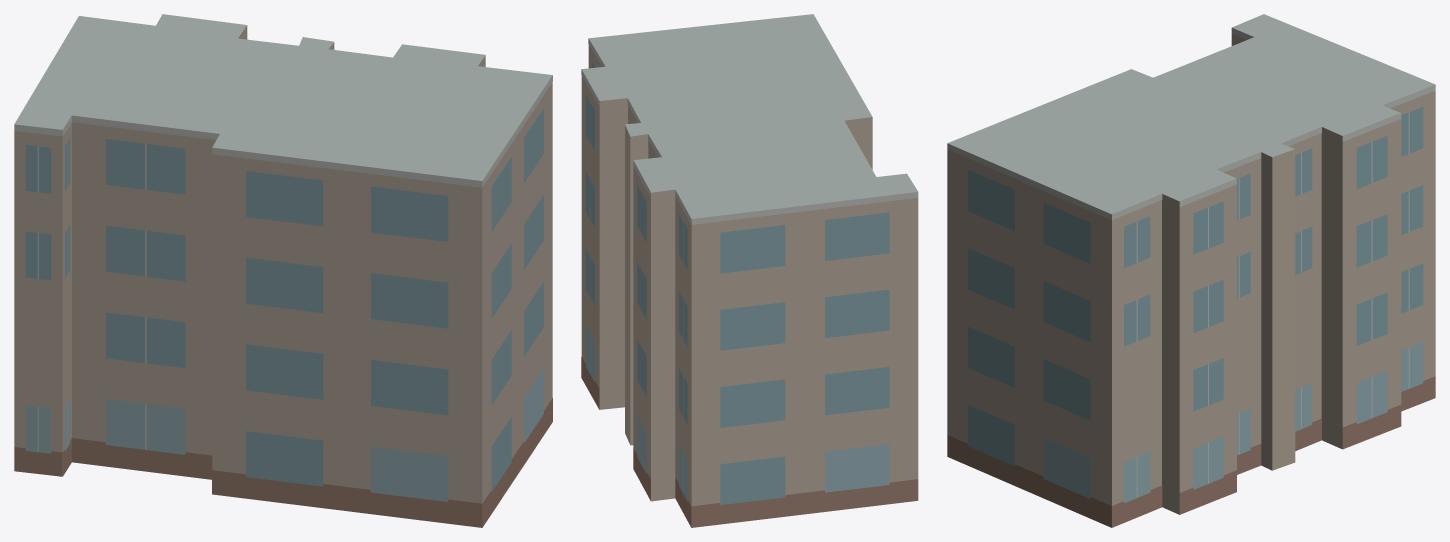
File: survey-upis-32993607.glb
3 views of the same model, side by side, from view 1: azimuth 30°, elevation 25°; view 2: azimuth 150°, elevation 25°; view 3: azimuth 270°, elevation 25° (orthographic). The views are drawn at different scales.
Parts seen in each view (by area): view 1: survey-upis-32993607.tmp; view 2: survey-upis-32993607.tmp; view 3: survey-upis-32993607.tmp.
Part boxes in pixels (<box>): survey-upis-32993607.tmp: <box>14,14,552,527</box>; survey-upis-32993607.tmp: <box>581,14,918,527</box>; survey-upis-32993607.tmp: <box>947,14,1435,527</box>.
Bounding box in the file's own units: 17.56 × 12.8 × 18.08.
